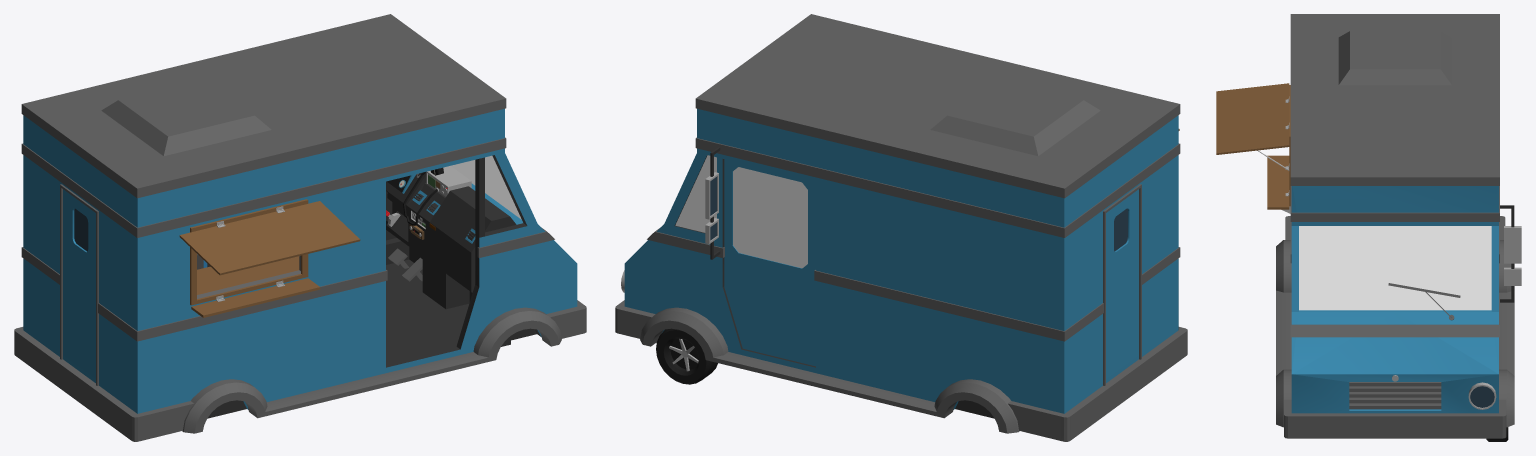
File: truck_v05.fbx
3 views of the same model, side by side, from view 1: azimuth 30°, elevation 25°; view 2: azimuth 150°, elevation 25°; view 3: azimuth 270°, elevation 25° (orthographic). The views are drawn at different scales.
Parts seen in each view (by area): view 1: truck_wall, truck_wall_trim, truck_wall_wheelCover&bumpers, truck_cab_dash, truck_wall_topthing, window_awning, truck_wall_floor, truck_door, window_counter, truck_counter_top, truck_glass_windshield, truck_wall_doorTrim02 (+3 smaller); view 2: truck_wall, truck_wall_trim, truck_wall_wheelCover&bumpers, truck_cab_door_left, truck_wall_topthing, truck_glass_doorL, truck_door, truck_wheel_01, truck_glass_sideL, truck_wall_doorTrim02, truck_cab_mirror_side; view 3: truck_wall, truck_glass_windshield, truck_wall_wheelCover&bumpers, truck_wall_trim, truck_wall_topthing, window_awning, truck_cab_grill_divier, truck_cab_mirror_side, window_counter, truck_cab_headlight_left, truck_cab_wiper_01.
Boxes of the visible parts, x1,y1,x2,y2 form: truck_wall: (23,14,577,413); truck_wall_trim: (21,14,554,341); truck_wall_wheelCover&bumpers: (14,300,586,441); truck_cab_dash: (386,172,516,309); truck_wall_topthing: (101,79,271,156); window_awning: (179,201,360,275); truck_wall_floor: (207,238,510,418); truck_door: (63,189,95,379); window_counter: (191,278,320,317); truck_counter_top: (197,256,299,294); truck_glass_windshield: (451,155,521,219); truck_wall_doorTrim02: (60,184,98,385); truck_wall: (624,14,1178,413); truck_wall_trim: (647,14,1180,341); truck_wall_wheelCover&bumpers: (615,300,1187,441); truck_cab_door_left: (724,159,815,366); truck_wall_topthing: (930,79,1100,156); truck_glass_doorL: (733,167,807,268); truck_door: (1106,189,1138,379); truck_wheel_01: (656,328,717,384); truck_glass_sideL: (675,155,716,232); truck_wall_doorTrim02: (1103,184,1141,385); truck_cab_mirror_side: (705,147,720,259); truck_wall: (1291,14,1498,413); truck_glass_windshield: (1299,226,1491,310); truck_wall_wheelCover&bumpers: (1276,216,1514,438); truck_wall_trim: (1290,14,1499,337); truck_wall_topthing: (1338,31,1451,85); window_awning: (1216,83,1289,154); truck_cab_grill_divier: (1349,382,1441,409); truck_cab_mirror_side: (1500,205,1521,302); window_counter: (1267,155,1289,209); truck_cab_headlight_left: (1468,382,1496,409); truck_cab_wiper_01: (1388,283,1460,320).
Bounding box in the file's own units: 4.93 × 3.09 × 3.18.
